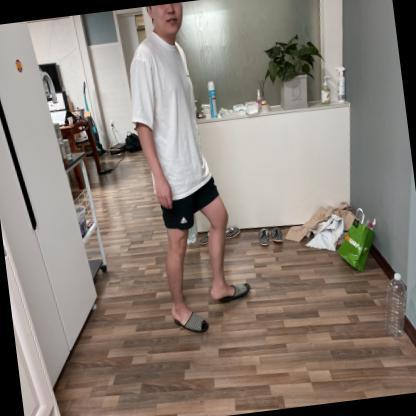no_safety-shoe: (208, 271, 264, 314), (167, 300, 212, 348)
